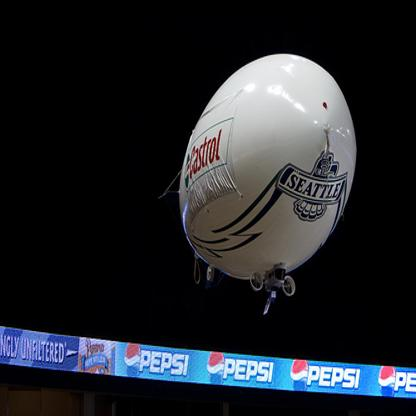Airship: (172, 51, 362, 320)
